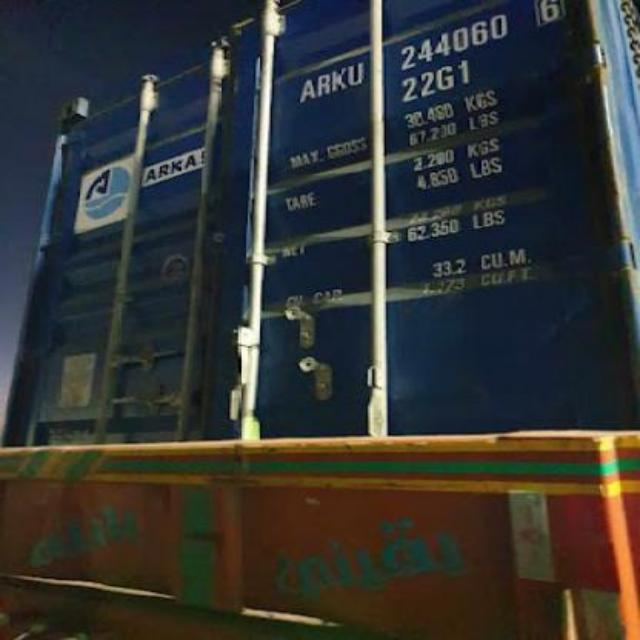0: (448, 24, 474, 54), (486, 13, 516, 37)
2: (396, 40, 422, 70)
4: (432, 31, 454, 58), (420, 36, 436, 62)
6: (524, 2, 566, 26), (468, 16, 494, 48)
A: (294, 73, 320, 105)
K: (326, 67, 352, 93)
R: (316, 70, 332, 94)
U: (344, 63, 372, 87)
